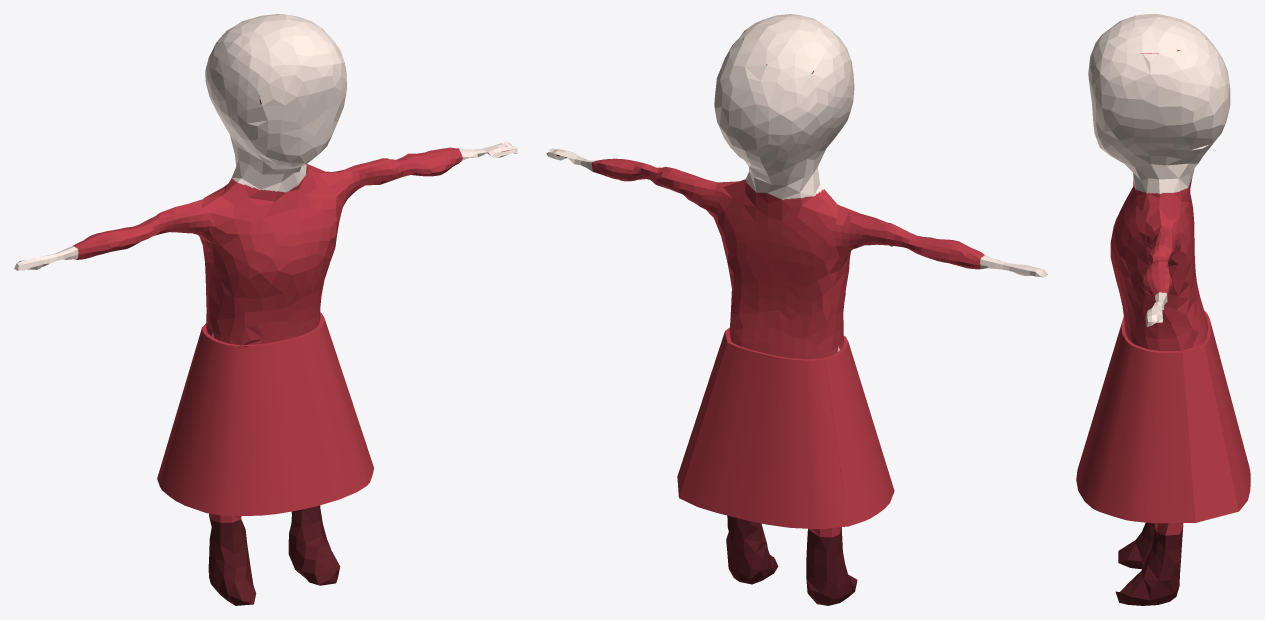
Rendered from girl_4.fbx.
The picture shows the model from 3 angles, left to right: view 1: azimuth 30°, elevation 25°; view 2: azimuth 150°, elevation 25°; view 3: azimuth 270°, elevation 25°; orthographic projection.
Visible parts, largest first — view 1: girl_4_skirt.004; view 2: girl_4_skirt.004; view 3: girl_4_skirt.004.
Boxes of the visible parts, left/top/right/bottom form: girl_4_skirt.004: left=14, top=14, right=517, bottom=605; girl_4_skirt.004: left=546, top=14, right=1047, bottom=605; girl_4_skirt.004: left=1076, top=14, right=1250, bottom=605.
Size of the model in its own units: 290 by 314 by 87.91.
1 material, 1 textured.
